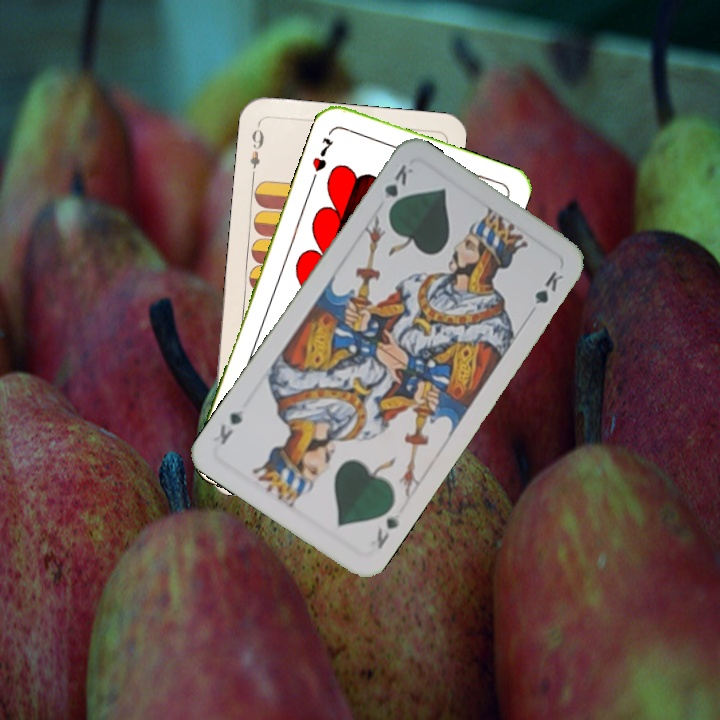E9: (246, 121, 266, 180)
GK: (380, 160, 416, 215), (372, 508, 403, 552)
H7: (308, 133, 337, 175)
